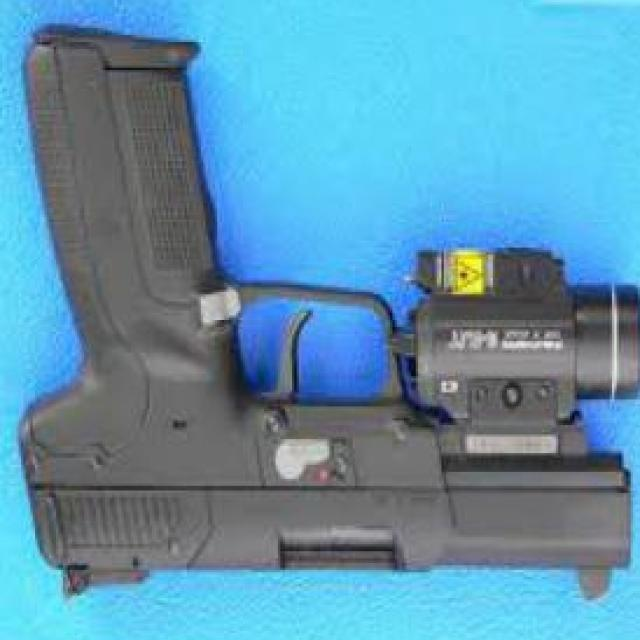pistol: (0, 39, 640, 616)
